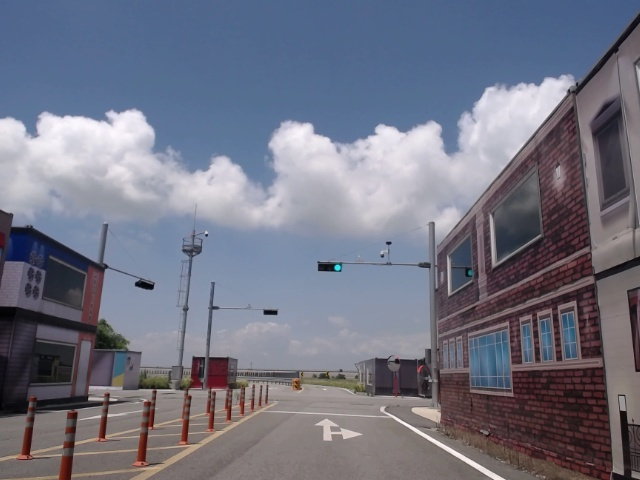green_3: (317, 263, 342, 271)
